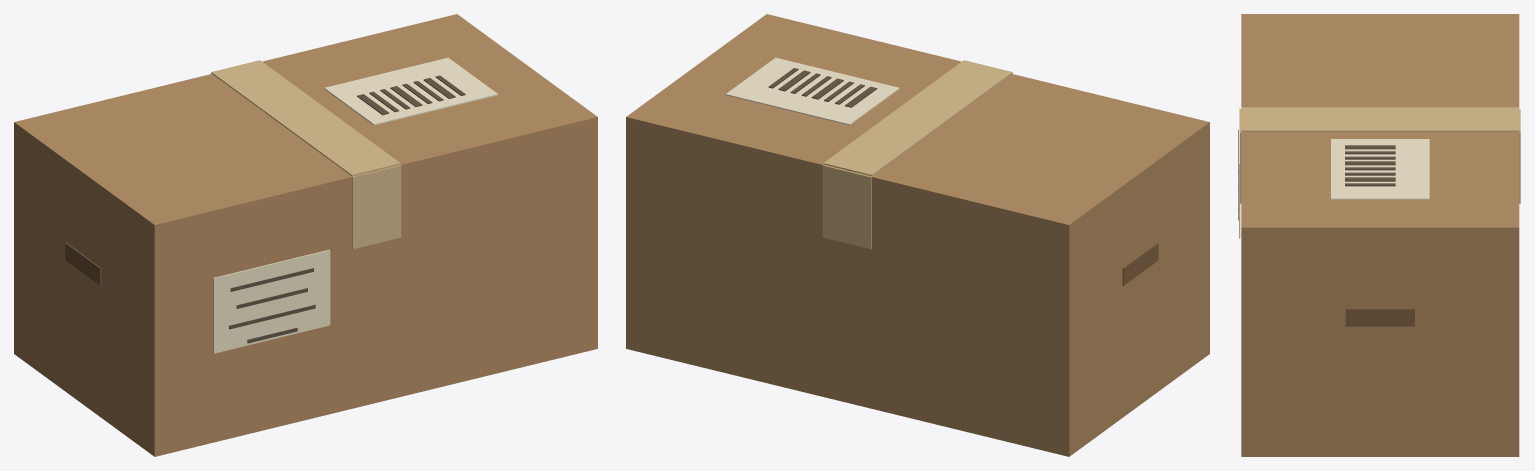
File: carry_box.glb
The picture shows the model from 3 angles, left to right: view 1: azimuth 30°, elevation 25°; view 2: azimuth 150°, elevation 25°; view 3: azimuth 270°, elevation 25°; orthographic projection.
Visible parts, largest first — view 1: Cardboard, Front parcel label, Top tape, Shipping label, Tape down side.001, Handle mark; view 2: Cardboard, Top tape, Shipping label, Tape down side, Handle mark; view 3: Cardboard, Top tape, Shipping label, Handle mark.001.
Part boxes in pixels (box(x1,y1,x2,y2)): Cardboard: box(14, 14, 597, 456); Front parcel label: box(213, 249, 330, 353); Top tape: box(211, 60, 400, 175); Shipping label: box(324, 57, 498, 125); Tape down side.001: box(352, 165, 401, 249); Handle mark: box(65, 242, 101, 285); Cardboard: box(626, 14, 1209, 456); Top tape: box(823, 60, 1012, 175); Shipping label: box(725, 57, 899, 125); Tape down side: box(822, 165, 871, 249); Handle mark: box(1122, 242, 1158, 285); Cardboard: box(1241, 14, 1519, 456); Top tape: box(1241, 107, 1519, 131); Shipping label: box(1331, 139, 1429, 199); Handle mark.001: box(1345, 309, 1414, 326).
Bounding box in the file's own units: 0.403 × 0.2034 × 0.2234.
